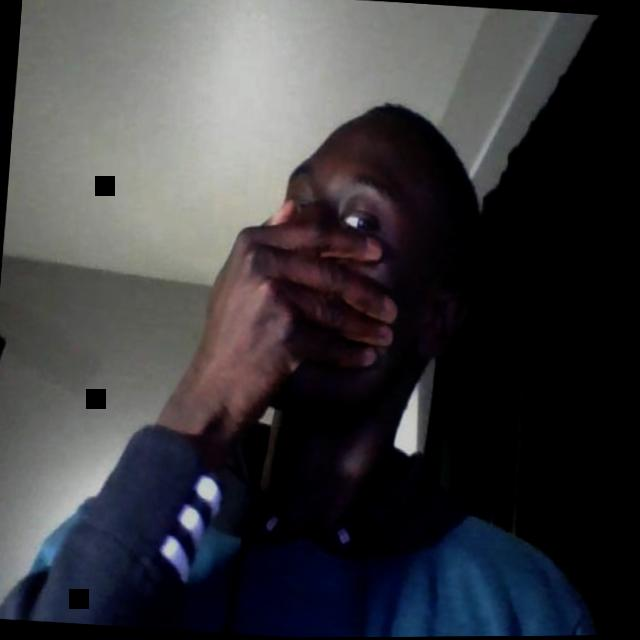NO-Mask: (265, 127, 442, 427)
